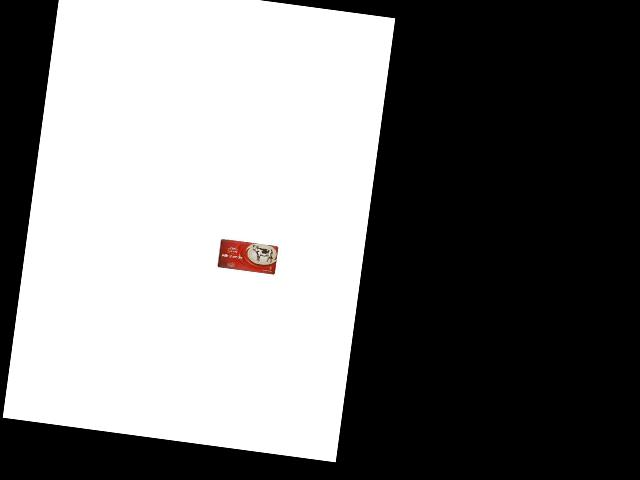chocolate: (215, 238, 278, 276)
